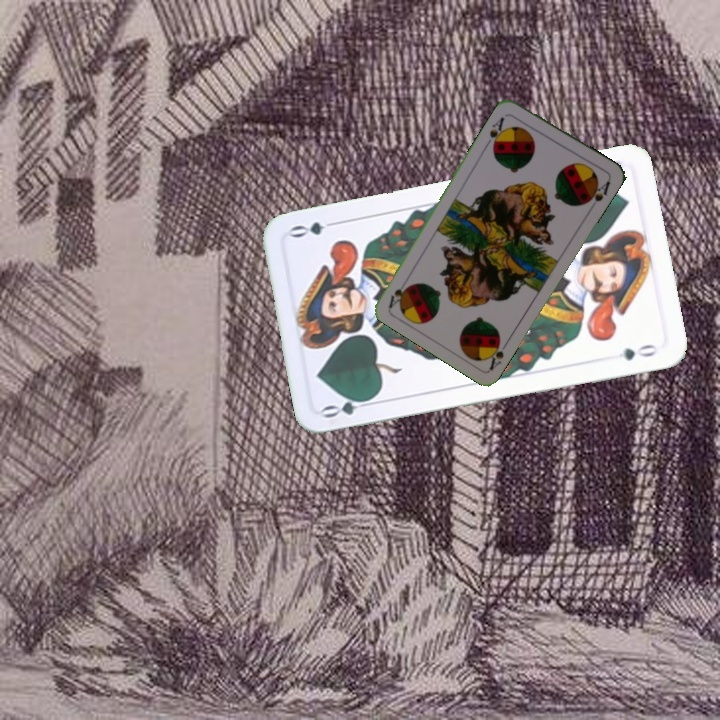GO: (319, 392, 378, 421)
SA: (482, 333, 512, 372), (483, 113, 509, 150)
